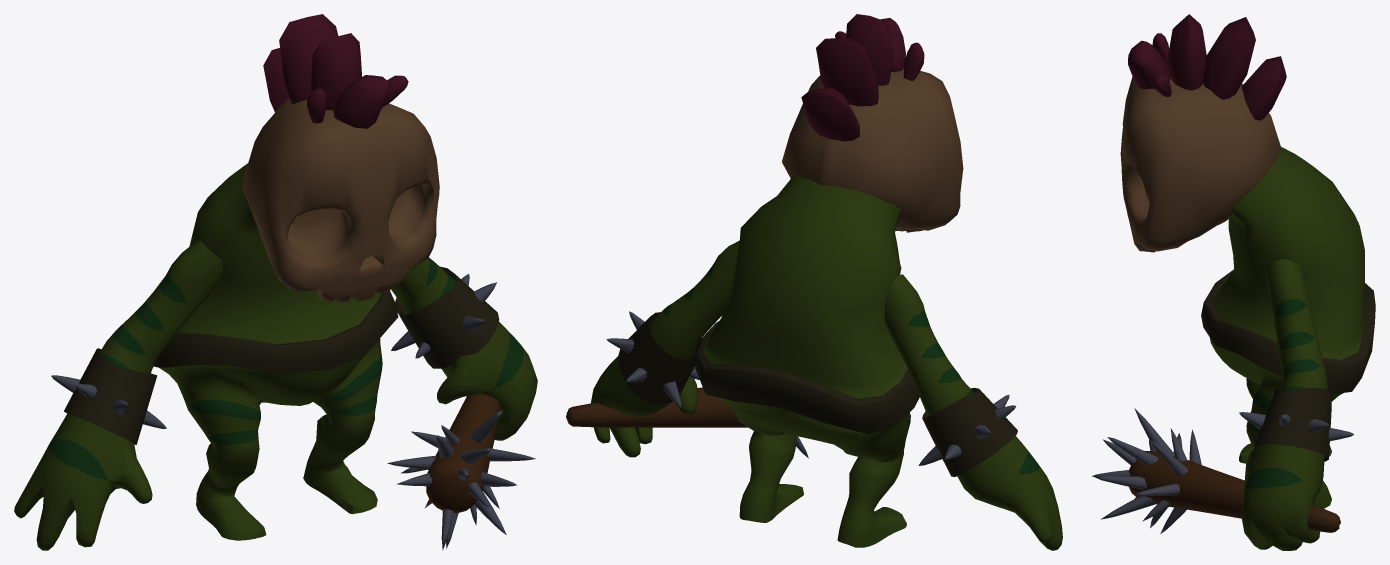
File: Orc_Skull.obj
3 renders of one model, left to right at view 1: azimuth 30°, elevation 25°; view 2: azimuth 150°, elevation 25°; view 3: azimuth 270°, elevation 25°, orthographic. The views are drawn at different scales.
Parts seen in each view (by area): view 1: Orc_Skull_Cube.038, Orc_Weapon_Cylinder.004; view 2: Orc_Skull_Cube.038, Orc_Weapon_Cylinder.004; view 3: Orc_Skull_Cube.038, Orc_Weapon_Cylinder.004.
Boxes of the visible parts, box(x1,y1,x2,y2) form: Orc_Skull_Cube.038: box(14, 14, 537, 550); Orc_Weapon_Cylinder.004: box(387, 394, 535, 550); Orc_Skull_Cube.038: box(591, 14, 1062, 550); Orc_Weapon_Cylinder.004: box(566, 387, 808, 458); Orc_Skull_Cube.038: box(1120, 14, 1375, 550); Orc_Weapon_Cylinder.004: box(1092, 408, 1340, 534).
Bounding box in the file's own units: 3.22 × 3.12 × 1.71.
